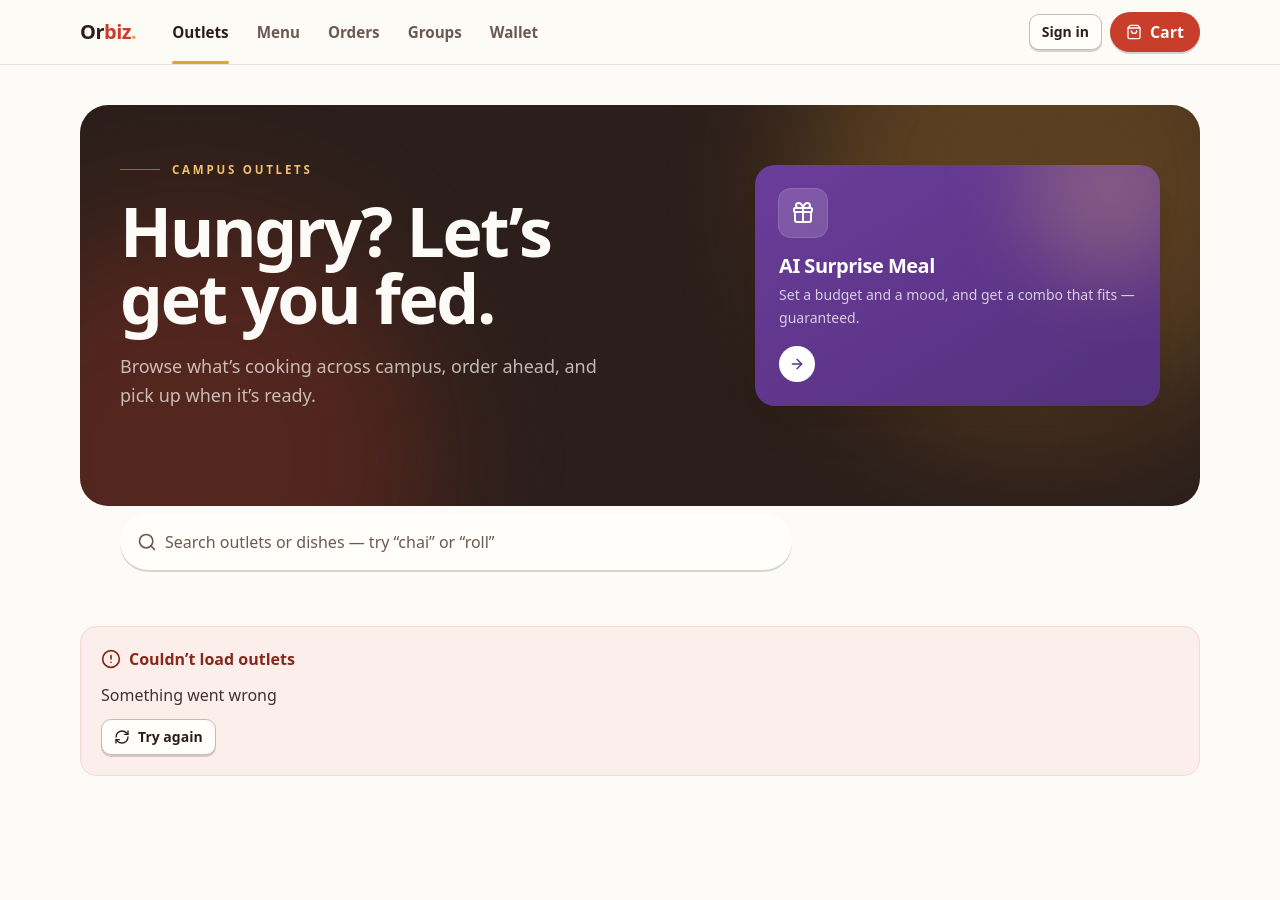
it: <HomePage /> › shows an error with retry when outlets fail to load
Expected: the text "Couldn’t load outlets" is shown, [101,647,295,671]
Click the button "Try again".
click(158, 737)  # box [101,719,216,755]
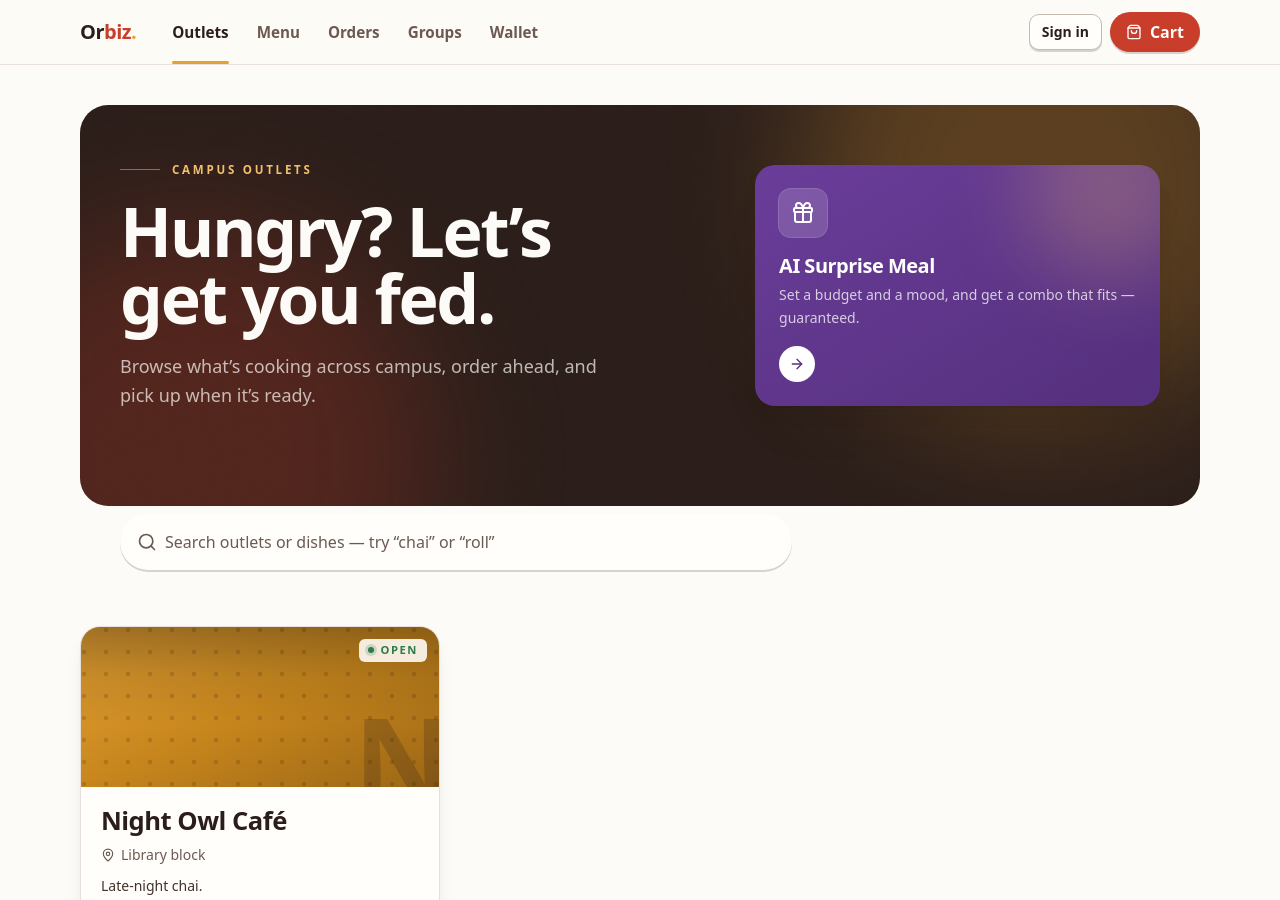
Expected: the heading "Night Owl Café" is shown, [101,803,287,838]
